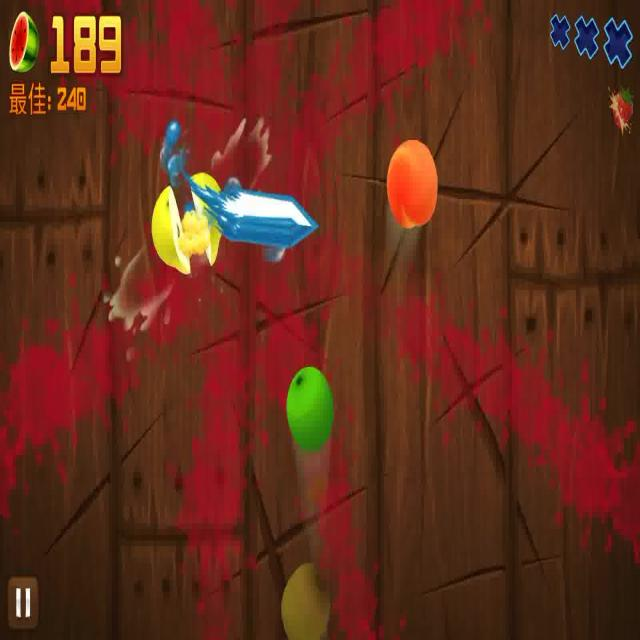fruit: (382, 134, 438, 232), (277, 561, 341, 640), (180, 163, 228, 268), (144, 183, 189, 281), (285, 362, 334, 452)
